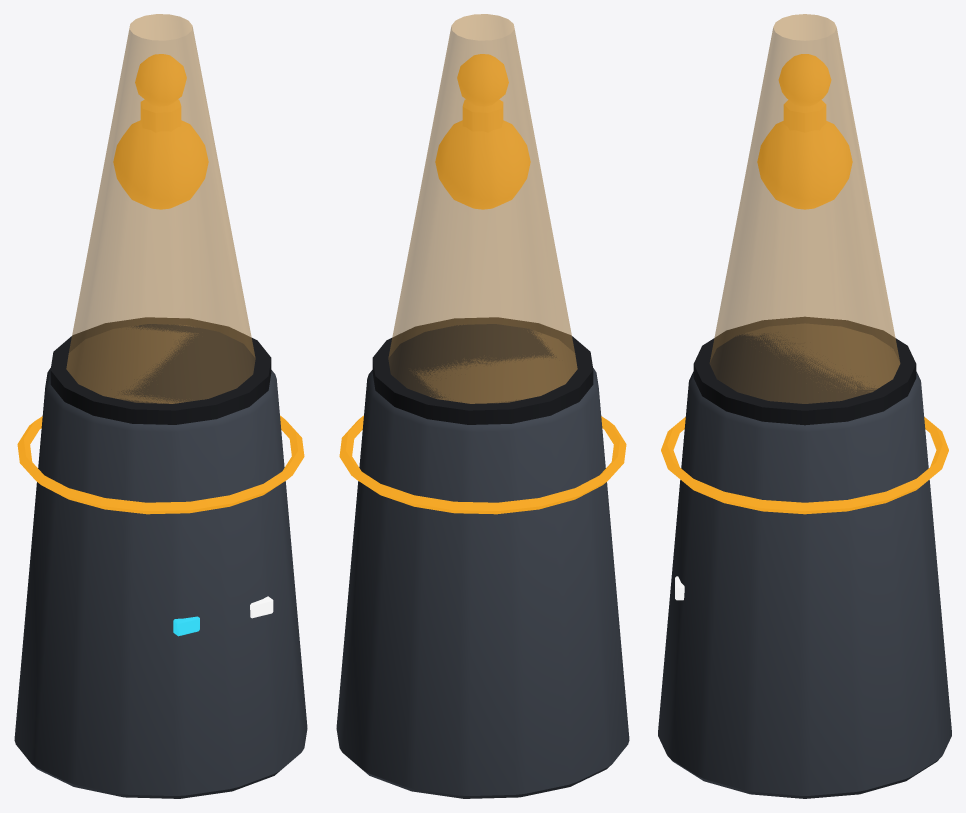
Rendered from holo_comm_bust_projector.glb.
3 views of the same model, side by side, from view 1: azimuth 30°, elevation 25°; view 2: azimuth 150°, elevation 25°; view 3: azimuth 270°, elevation 25° (orthographic).
Visible parts, largest first — view 1: holo_comm_bust_projector; view 2: holo_comm_bust_projector; view 3: holo_comm_bust_projector.
Part boxes in pixels (x1,y1,x2,y2): holo_comm_bust_projector: (14, 14, 307, 798); holo_comm_bust_projector: (336, 14, 629, 798); holo_comm_bust_projector: (658, 14, 951, 798).
Bounding box in the file's own units: 0.5545 × 1.48 × 0.5545.
